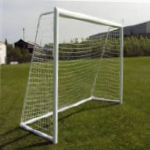goals: (19, 5, 126, 142)
